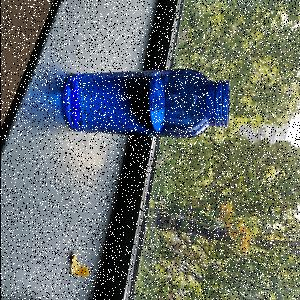Plastic-bottle: (62, 69, 232, 141)
